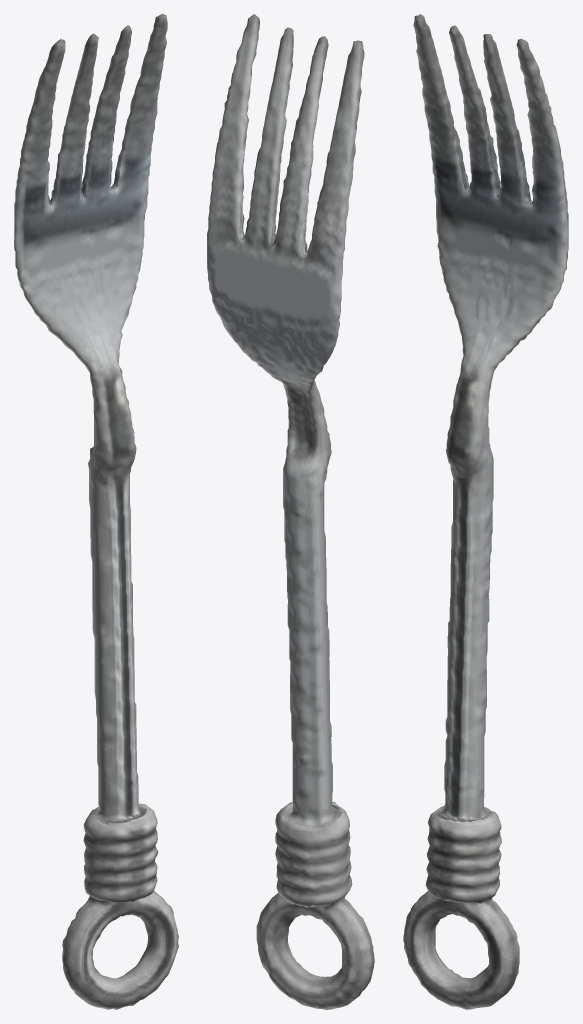
File: como_salad_fork_0308230033_texture.glb
3 views of the same model, side by side, from view 1: azimuth 30°, elevation 25°; view 2: azimuth 150°, elevation 25°; view 3: azimuth 330°, elevation 25° (orthographic).
Parts seen in each view (by area): view 1: Mesh_0.001; view 2: Mesh_0.001; view 3: Mesh_0.001.
Boxes of the visible parts, bbox=[...] form: Mesh_0.001: bbox=[14, 14, 178, 1009]; Mesh_0.001: bbox=[207, 14, 374, 1009]; Mesh_0.001: bbox=[403, 14, 568, 1009].
Bounding box in the file's own units: 0.0288 × 0.2032 × 0.0229.
1 material, 1 textured.
